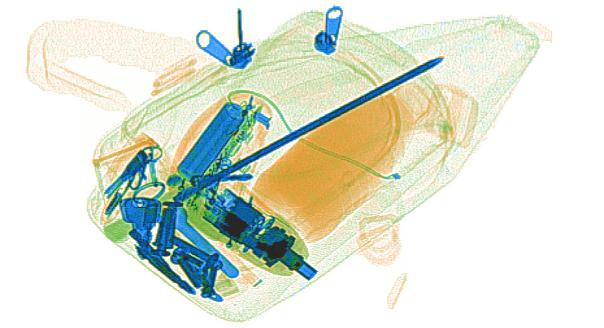battery: (176, 101, 248, 185)
